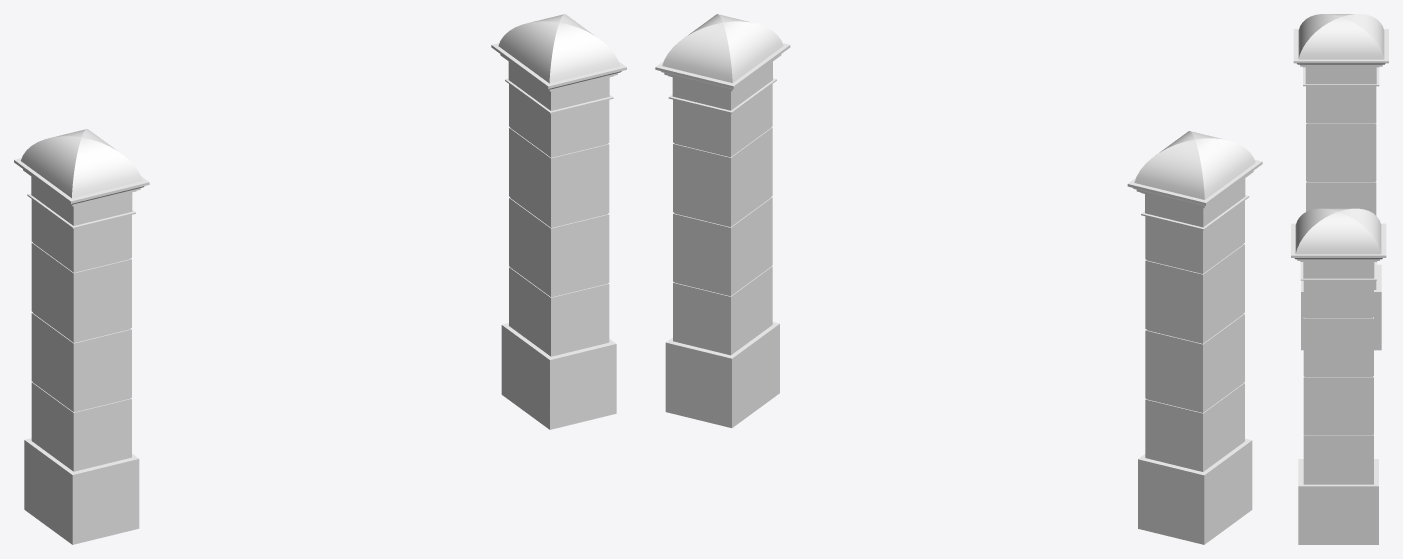
Rendered from pilares.obj.
The picture shows the model from 3 angles, left to right: view 1: azimuth 30°, elevation 25°; view 2: azimuth 150°, elevation 25°; view 3: azimuth 270°, elevation 25°; orthographic projection. The views are drawn at different scales.
Visible parts, largest first — view 1: Pilares_puertablanca; view 2: Pilares_puertablanca; view 3: Pilares_puertablanca.
Boxes of the visible parts, x1,y1,x2,y2 form: Pilares_puertablanca: (14, 14, 626, 544); Pilares_puertablanca: (655, 14, 1262, 544); Pilares_puertablanca: (1291, 14, 1388, 544).
Size of the model in its own units: 12.8 by 8.42 by 2.33.
